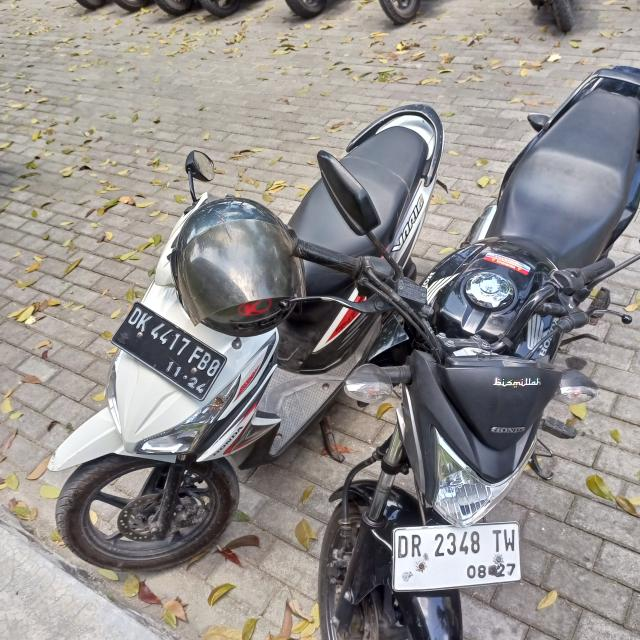plate: (110, 300, 228, 401), (388, 522, 522, 590)
